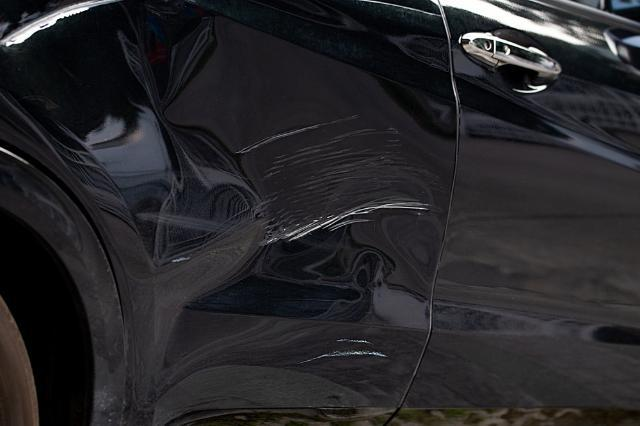dent: (117, 0, 397, 421)
scratch: (230, 114, 445, 227)
